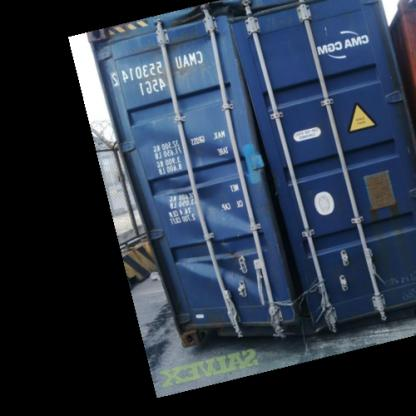Damage: (141, 119, 311, 335), (174, 0, 266, 34), (361, 199, 408, 250)
